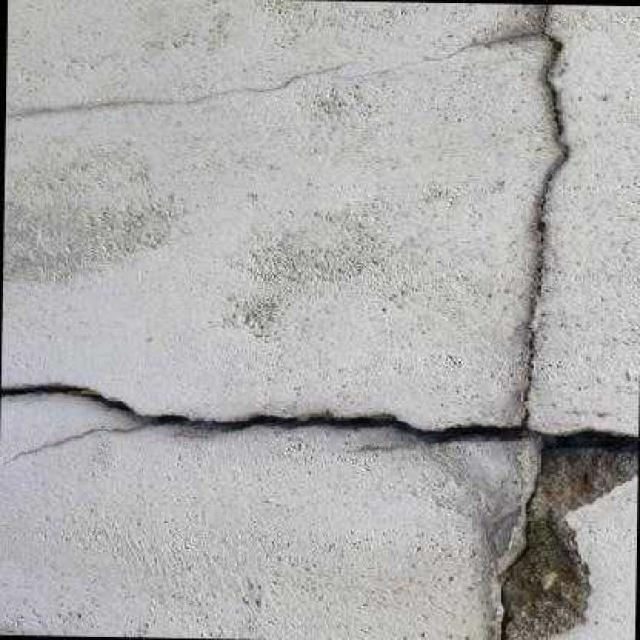D00: (0, 4, 638, 640), (3, 30, 538, 120)
